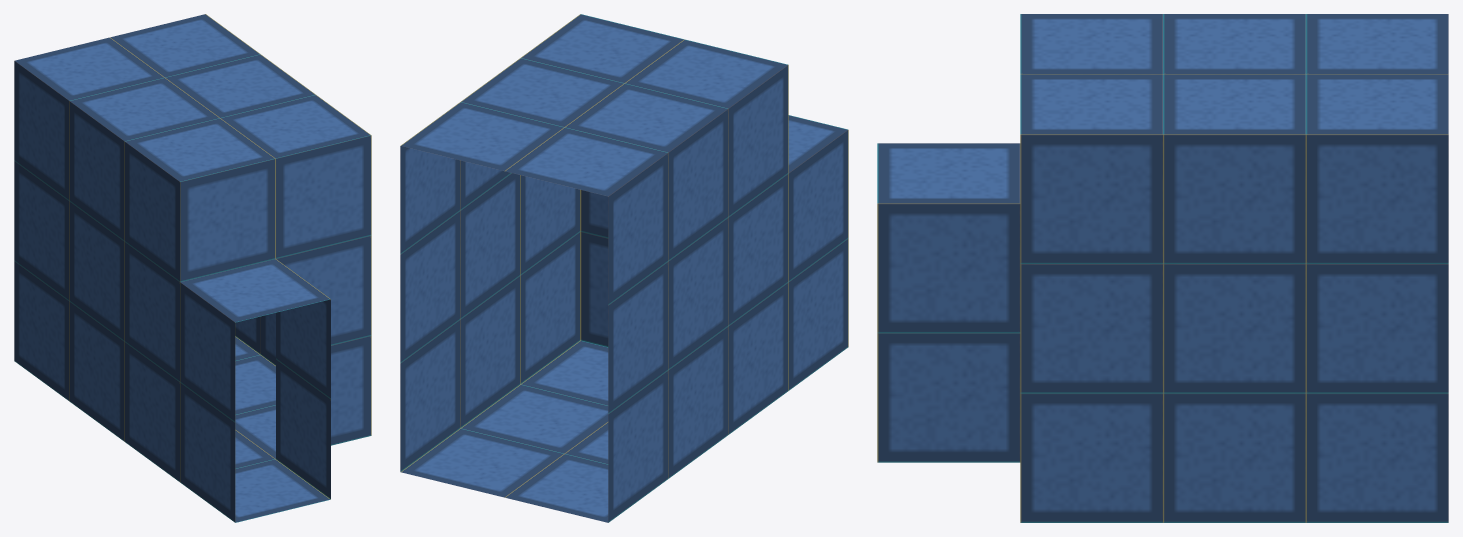
Rendered from geometry-05-room2part1.FBX.
3 renders of one model, left to right at view 1: azimuth 30°, elevation 25°; view 2: azimuth 150°, elevation 25°; view 3: azimuth 270°, elevation 25°, orthographic. The views are drawn at different scales.
Visible parts, largest first — view 1: room2-part1; view 2: room2-part1; view 3: room2-part1.
Part boxes in pixels (x1,y1,x2,y2): room2-part1: (14,14,371,522); room2-part1: (400,14,848,522); room2-part1: (877,14,1448,522).
Size of the model in its own units: 40 by 60 by 80.
Materials: 1 (1 with a texture image).
